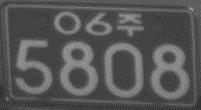0: (103, 41, 144, 100), (53, 10, 82, 34)
5: (14, 38, 53, 96)
6: (85, 11, 113, 36)
8: (149, 42, 189, 100), (59, 40, 99, 97)
주: (117, 12, 144, 37)
